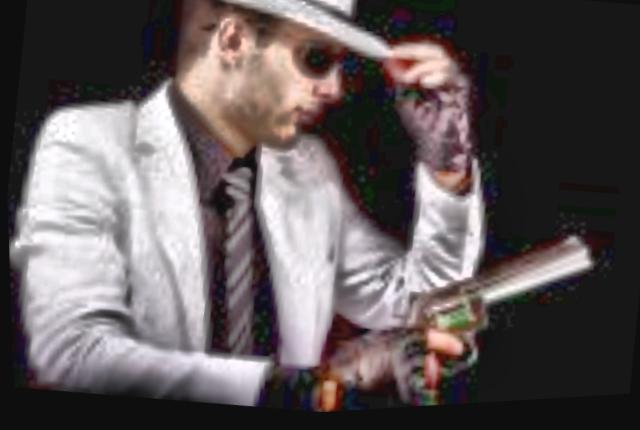pistol: (347, 204, 599, 414)
